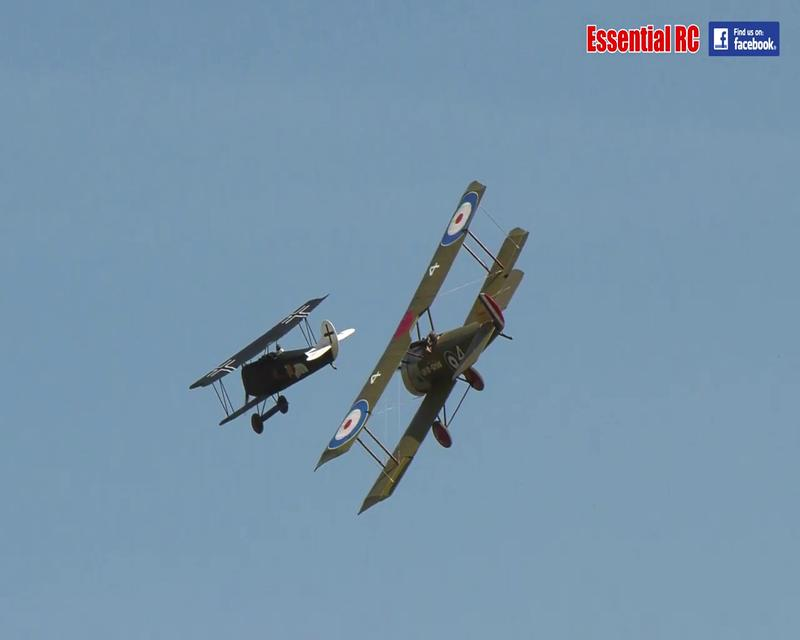UAV: (314, 181, 531, 514), (188, 290, 356, 434)
